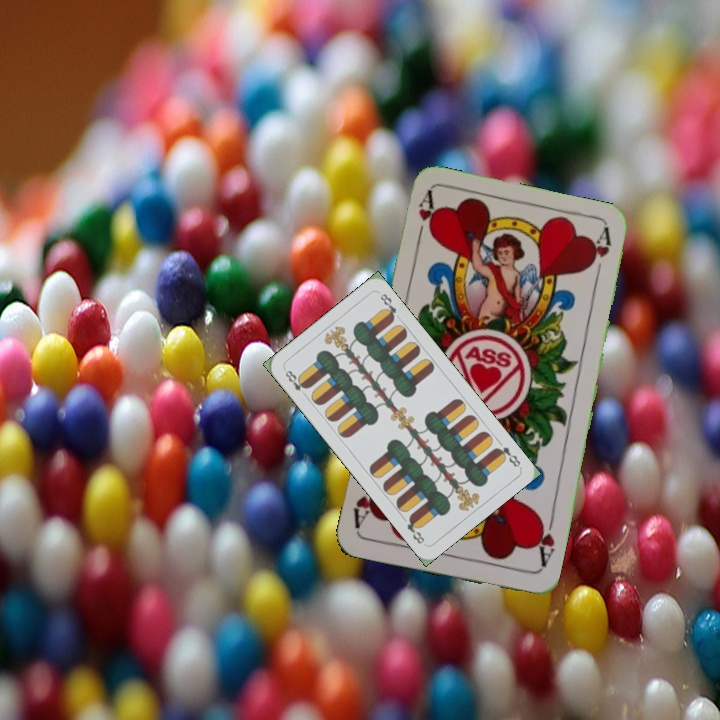E8: (280, 365, 311, 394), (491, 442, 523, 470)
HA: (412, 189, 441, 247), (530, 512, 558, 570)
